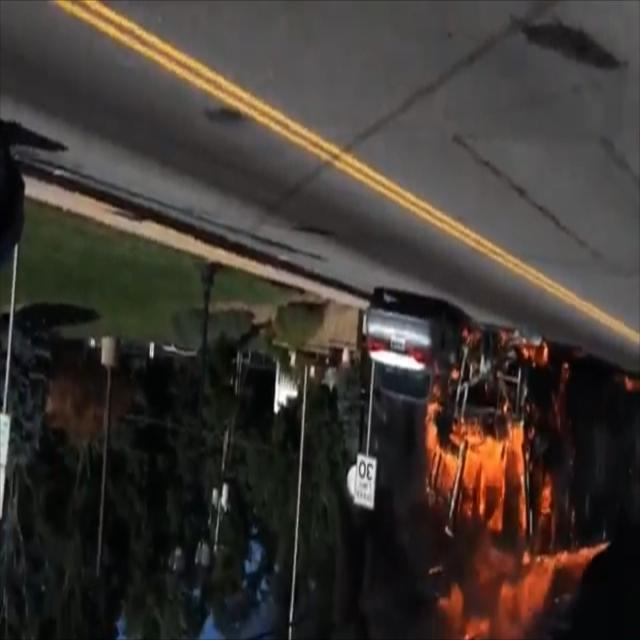fire: (420, 353, 590, 634)
